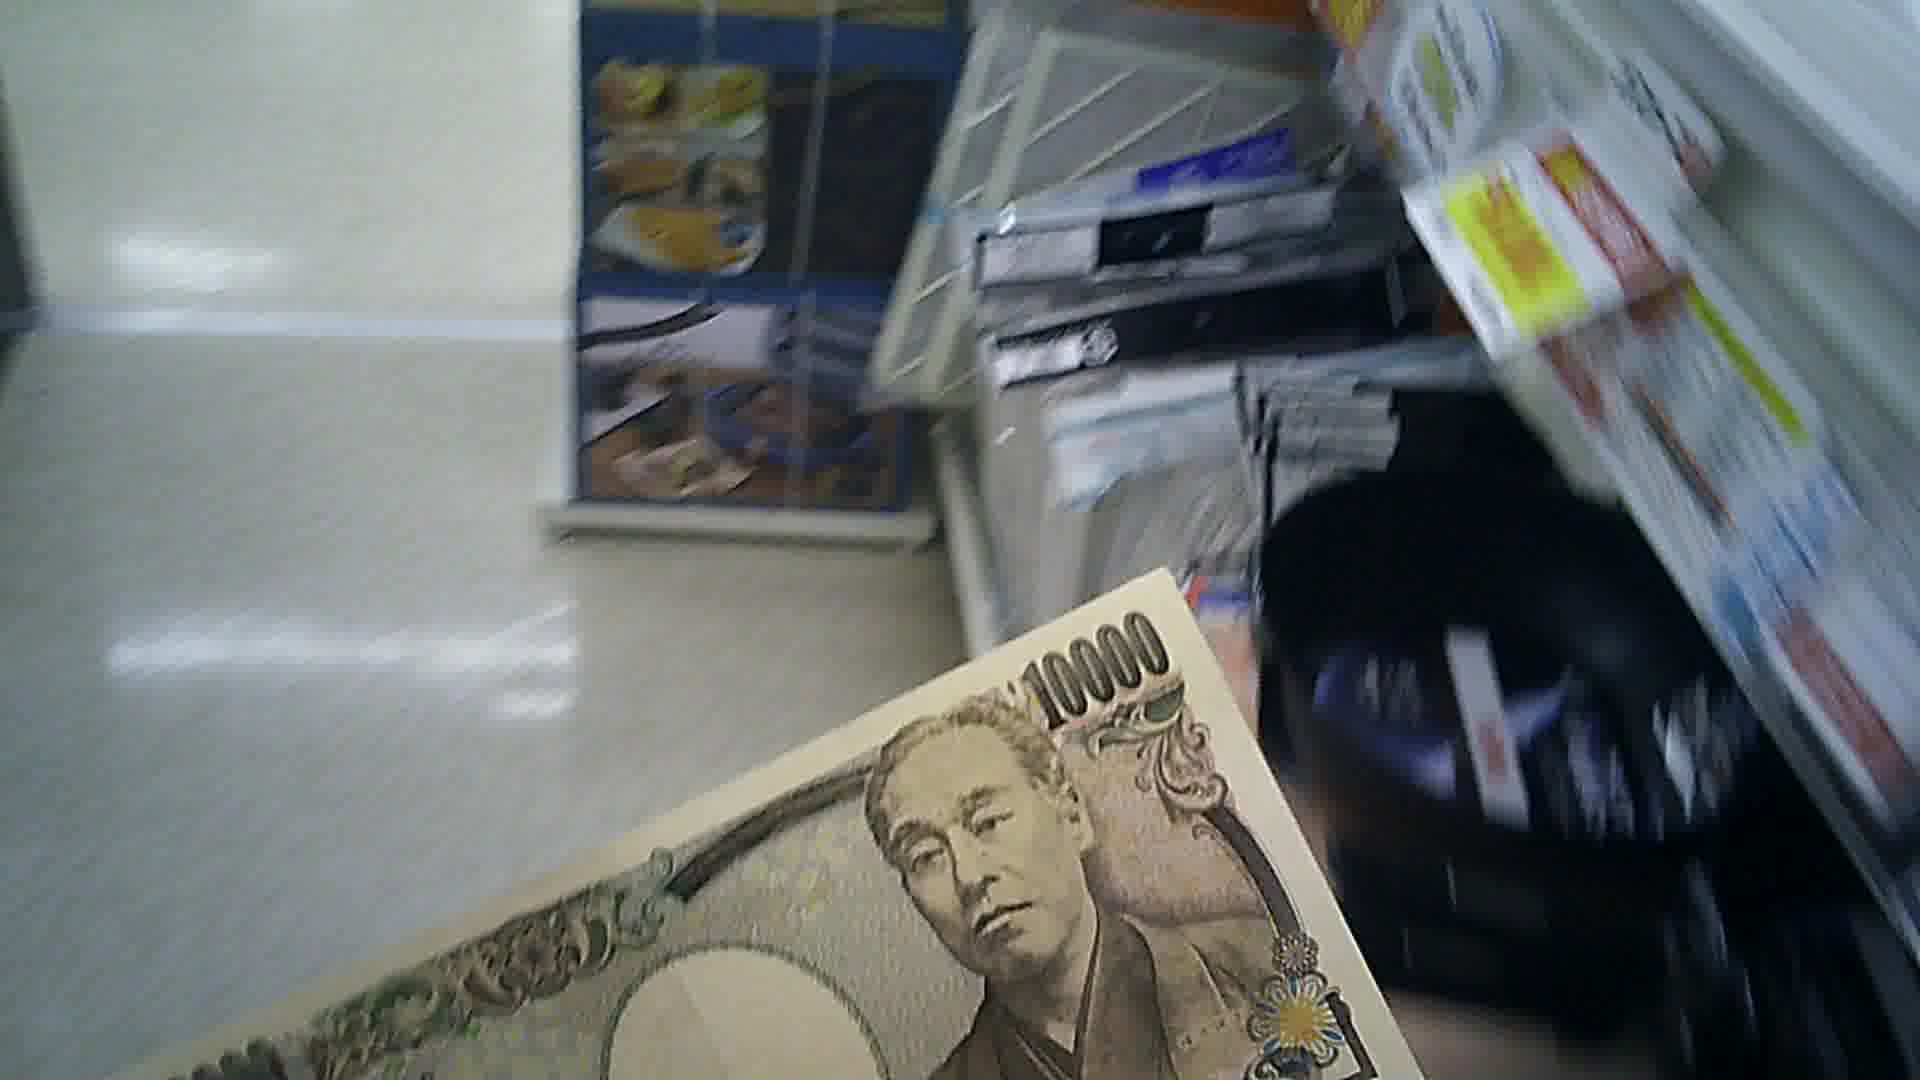10,000 Yen: (167, 574, 1445, 1079)
